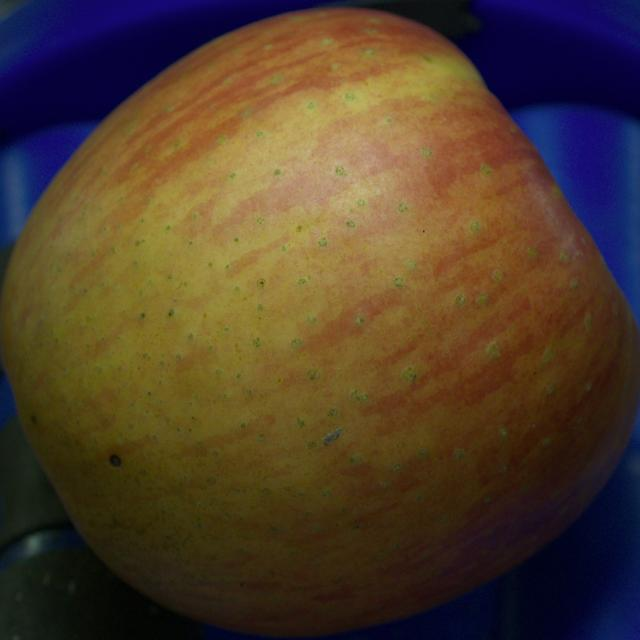apple: (0, 8, 639, 636)
pest: (110, 454, 121, 466)
